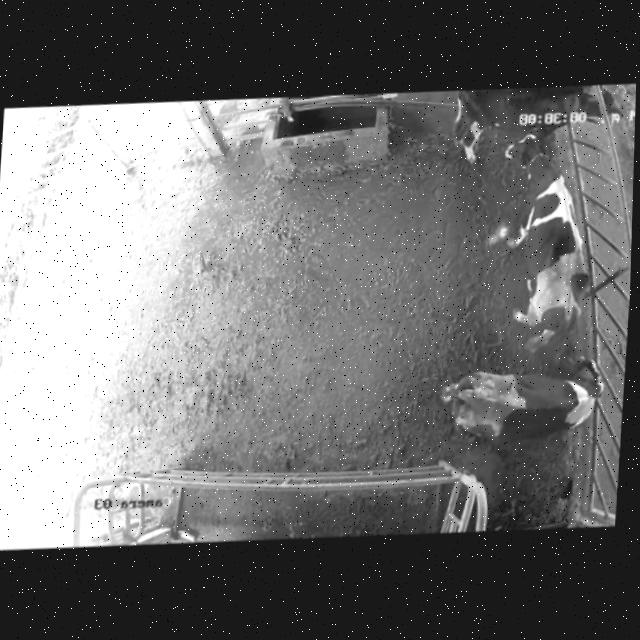eat: (516, 75, 636, 135)
stand: (480, 123, 605, 351), (419, 343, 611, 449)
